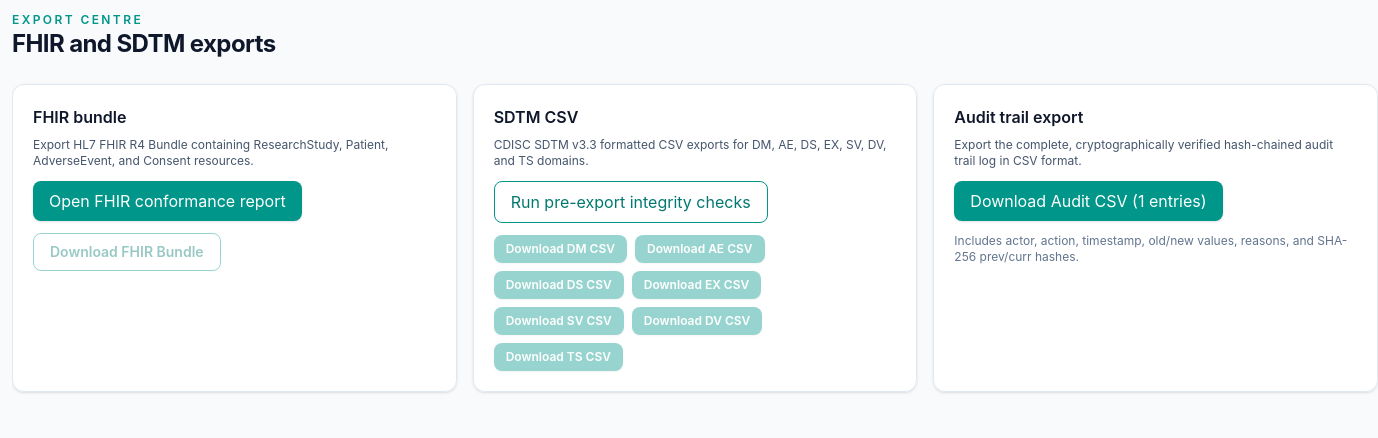
Test: Exports page › requires SDTM integrity checks before enabling each domain CSV download
The width and height of the screenshot is (1378, 438).
Click the button "Run pre-export integrity checks".
click(631, 202)  # box [494,181,768,223]
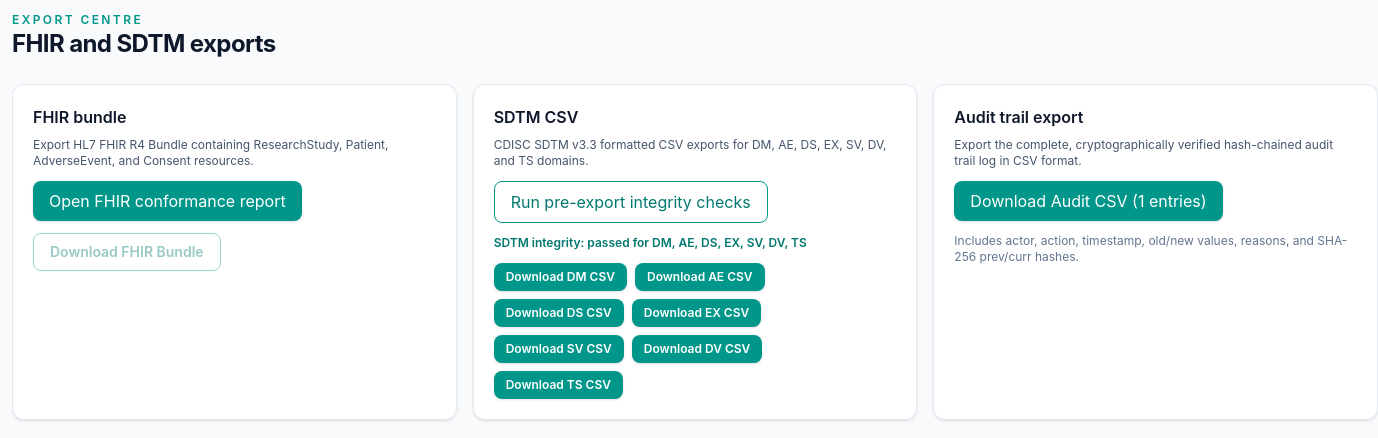
expect the message reads "SDTM integrity: passed for DM, AE, DS, EX, SV, DV, TS": met, box [494,235,807,250]
